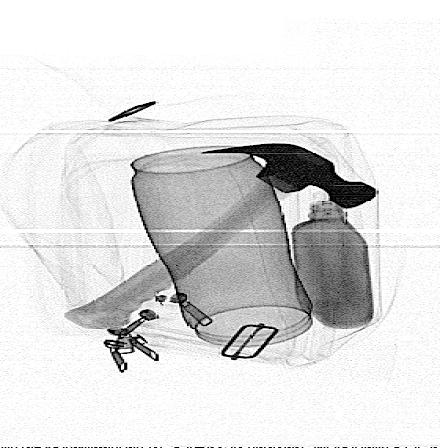Hammer: (62, 143, 377, 330)
